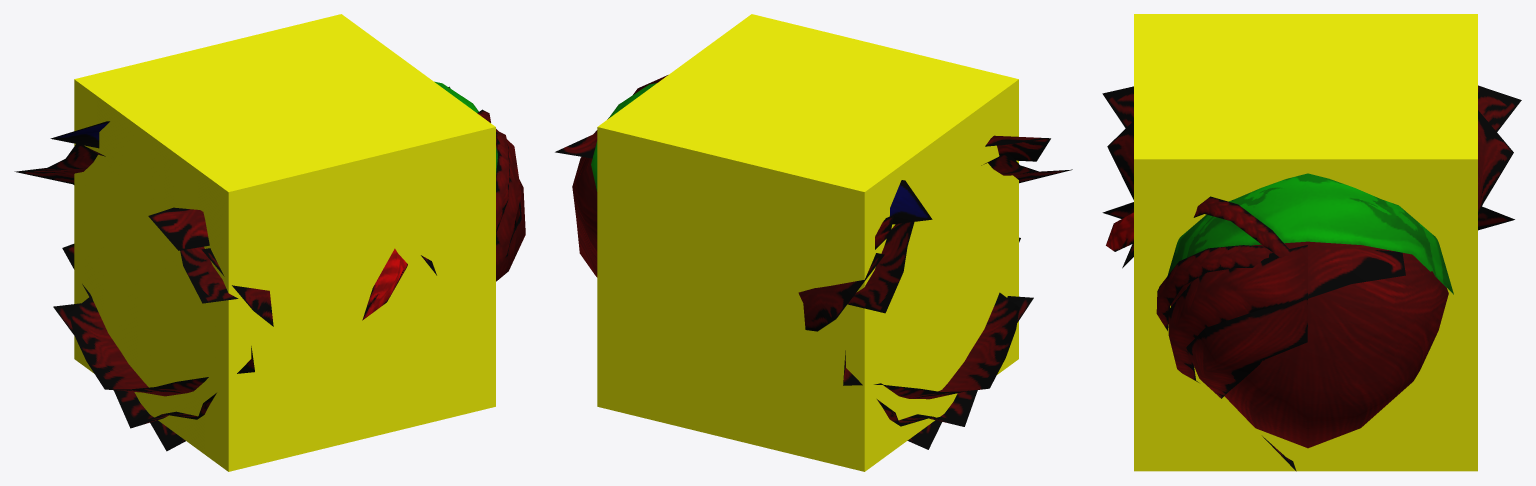
3 renders of one model, left to right at view 1: azimuth 30°, elevation 25°; view 2: azimuth 150°, elevation 25°; view 3: azimuth 270°, elevation 25°, orthographic. The views are drawn at different scales.
Visible parts, largest first — view 1: object0070_Box, object0005_G13001; view 2: object0070_Box, object0005_G13001; view 3: object0070_Box, object0005_G13001.
Boxes of the visible parts, bbox=[...] form: object0070_Box: bbox=[74, 14, 495, 471]; object0005_G13001: bbox=[14, 81, 525, 451]; object0070_Box: bbox=[597, 14, 1018, 471]; object0005_G13001: bbox=[555, 75, 1072, 449]; object0070_Box: bbox=[1134, 14, 1477, 471]; object0005_G13001: bbox=[1102, 85, 1521, 471].
Bounding box in the file's own units: 0.7046 × 0.5292 × 0.5669.
